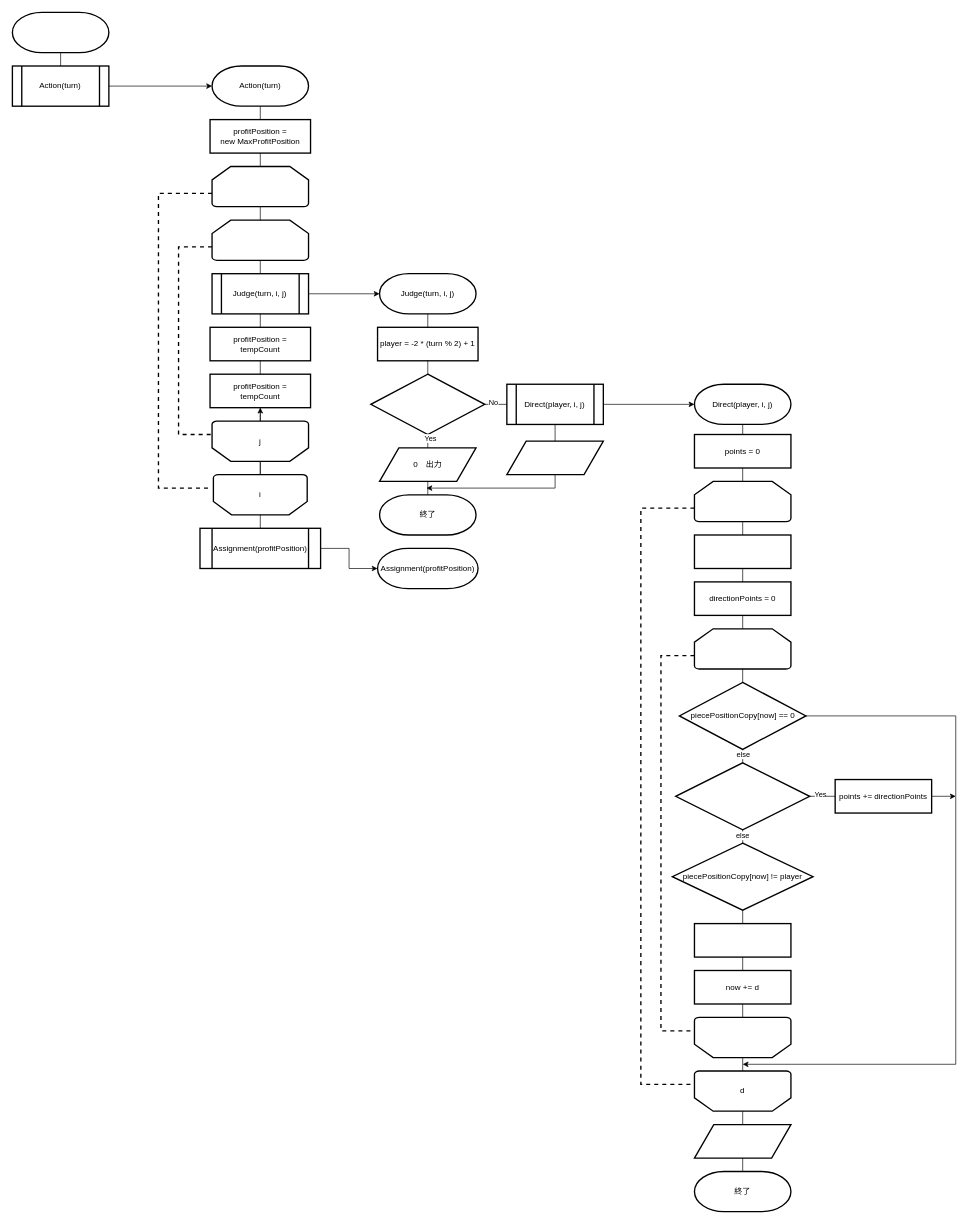
The diagram is 973 pixels wide and 1223 high, and some of its shapes have lost their labels. Here are the shapes that lost their labels. From the top down, the centre of each, then its label:
At point (60, 32): "GameManagement".
At point (260, 186): "i = 0, 7, 1".
At point (260, 240): "j = 0, 7, 1".
At point (427, 404): "piecePositionCopy[i, j] != 0".
At point (555, 457): "Direct 出力".
At point (742, 501): "d /*direct*/ = 0, 2, 1".
At point (742, 551): "now = index +d".
At point (742, 648): "0 <= now <= 8".
At point (742, 796): "piecePositionCopy[now] == player".
At point (742, 940): "directionPoints++".
At point (742, 1037): "now".
At point (742, 1141): "points 出力".
